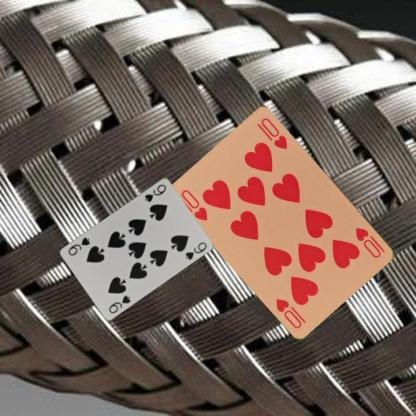10h: (353, 225, 387, 259), (179, 186, 209, 222)
9s: (142, 182, 168, 204), (106, 292, 132, 314)
